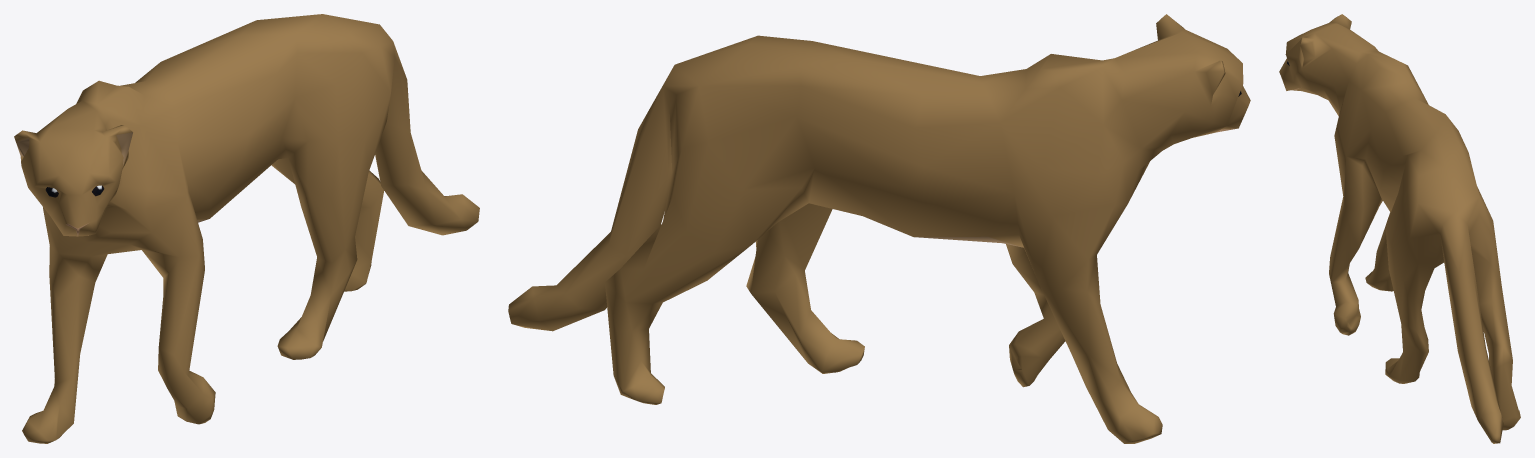
File: Cougar02.glb
3 renders of one model, left to right at view 1: azimuth 30°, elevation 25°; view 2: azimuth 150°, elevation 25°; view 3: azimuth 270°, elevation 25°, orthographic. The views are drawn at different scales.
Parts seen in each view (by area): view 1: Cougar02; view 2: Cougar02; view 3: Cougar02.
Boxes of the visible parts, <box> form: Cougar02: <box>14,14,479,443</box>; Cougar02: <box>508,14,1250,443</box>; Cougar02: <box>1279,14,1520,443</box>.
Size of what is drawn, in the model's own units: 1.99 by 1.17 by 0.9833.
1 material, 1 textured.
